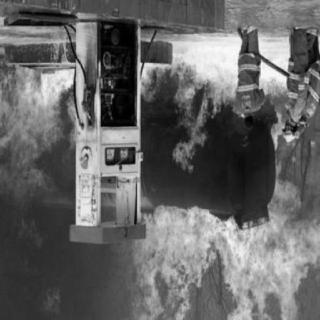Fire: (130, 76, 316, 320), (2, 52, 74, 318)
